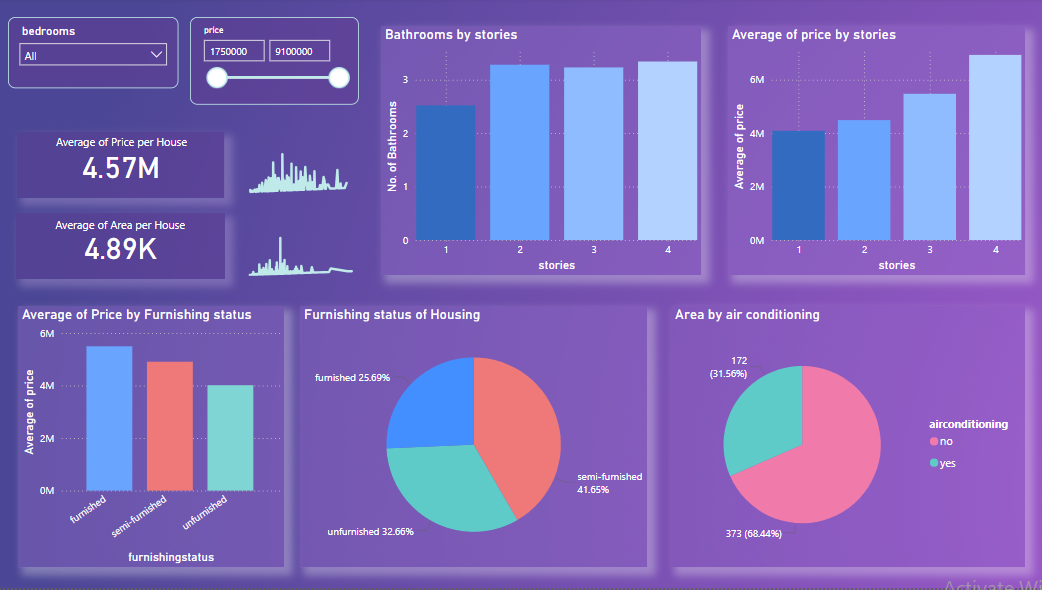

What the dashboard file says about the page in this screenshot:
{"tool":"powerbi","page":{"name":"Page 1","canvas":[1280,720],"ordinal":0},"visuals":[{"type":"card","title":"Average of Area per House","fields":{"Values":["Avg(cleaned_housing_data.price)"]},"box":[22.9,163.8,253.2,79.8],"z":0,"group":"g2"},{"type":"pieChart","title":"Furnishing status of Housing","fields":{"Category":["Housing.furnishingstatus"],"Y":["CountNonNull(Housing.area)"]},"box":[368.9,375.7,423.9,319.3],"z":1},{"type":"pieChart","title":"Area by air conditioning","fields":{"Category":["Housing.airconditioning"],"Y":["CountNonNull(Housing.area)"]},"box":[821.7,375.7,432.2,319.3],"z":2},{"type":"columnChart","fields":{"Category":["cleaned_housing_data.stories"],"Y":["Avg(cleaned_housing_data.price)"]},"box":[890.5,34.4,363.4,304.2],"z":3},{"type":"columnChart","title":"Bathrooms by stories","fields":{"Category":["Housing.stories"],"Y":["Avg(Housing.bedrooms)"]},"box":[468,34.4,390.9,304.2],"z":4},{"type":"columnChart","title":"Average of Price by Furnishing status","fields":{"Category":["Housing.furnishingstatus"],"Y":["Avg(Housing.price)"]},"box":[24.8,375.7,324.8,319.3],"z":5},{"type":"card","title":"Average of Area per House","fields":{"Values":["Avg(cleaned_housing_data.area)"]},"box":[22.3,262.7,254.6,79.8],"z":7,"group":"g1"},{"type":"textbox","box":[24.6,262.7,249.1,30.3],"z":8,"group":"g1"},{"type":"lineChart","title":"Average of Price by Furnishing status","fields":{"Category":["Housing.area"],"Y":["Sum(Housing.area)"]},"box":[278.3,277.8,200.9,67.4],"z":9,"group":"g1"},{"type":"group","id":"g1","title":"Group 1","box":[22.3,262.7,456.9,82.6],"z":10},{"type":"group","id":"g2","title":"Group 1","box":[22.9,161,432.2,82.6],"z":11},{"type":"slicer","fields":{"Values":["cleaned_housing_data.bedrooms"]},"box":[12.4,23.4,207.8,86.7],"z":13},{"type":"slicer","fields":{"Values":["cleaned_housing_data.price"]},"box":[234,23.4,206.5,107.4],"z":14},{"type":"textbox","box":[32.7,161,235.4,33],"z":1000,"group":"g2"},{"type":"lineChart","title":"Average of Price by Furnishing status","fields":{"Y":["Sum(cleaned_housing_data.price)"],"Category":["cleaned_housing_data.price"]},"box":[265.1,170.6,189.9,72.9],"z":2000,"group":"g2"}]}

Visuals, with their boxes in screenshot pixels (x1, y1, x2, y2), scaled from the page's 1280x720 canvas onto the 1042x590 screenshot:
"Average of Area per House" card: x1=19 y1=134 x2=225 y2=200
"Furnishing status of Housing" pieChart: x1=300 y1=308 x2=645 y2=570
"Area by air conditioning" pieChart: x1=669 y1=308 x2=1021 y2=570
columnChart - cleaned_housing_data.stories x Avg(cleaned_housing_data.price): x1=725 y1=28 x2=1021 y2=277
"Bathrooms by stories" columnChart: x1=381 y1=28 x2=699 y2=277
"Average of Price by Furnishing status" columnChart: x1=20 y1=308 x2=285 y2=570
"Average of Area per House" card: x1=18 y1=215 x2=225 y2=281
textbox: x1=20 y1=215 x2=223 y2=240
"Average of Price by Furnishing status" lineChart: x1=227 y1=228 x2=390 y2=283
"Group 1" group: x1=18 y1=215 x2=390 y2=283
"Group 1" group: x1=19 y1=132 x2=370 y2=200
slicer - cleaned_housing_data.bedrooms: x1=10 y1=19 x2=179 y2=90
slicer - cleaned_housing_data.price: x1=190 y1=19 x2=359 y2=107
textbox: x1=27 y1=132 x2=218 y2=159
"Average of Price by Furnishing status" lineChart: x1=216 y1=140 x2=370 y2=200
